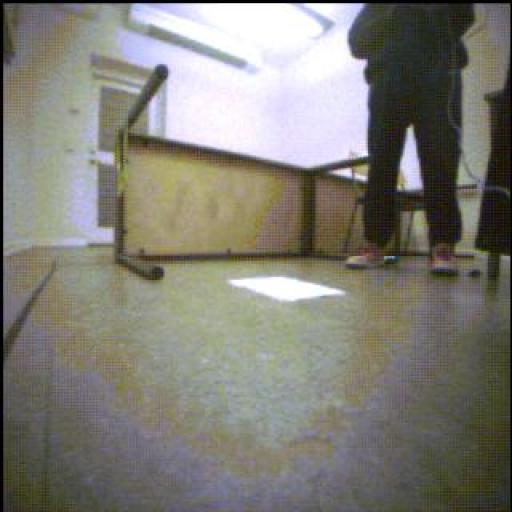Pad: (231, 278, 345, 308)
